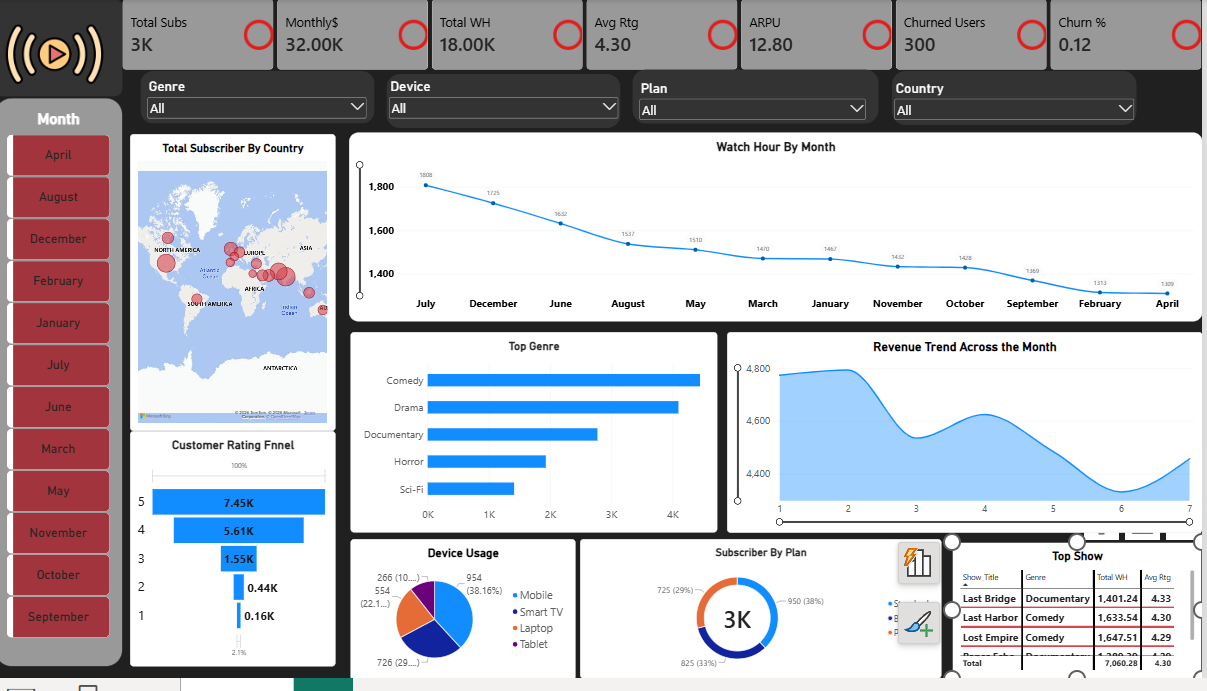

The page's visual inventory and layout, read from the dashboard file:
{"tool":"powerbi","page":{"name":"Page 1","canvas":[2560,1440],"ordinal":0},"visuals":[{"type":"shape","box":[0,0,270.4,206.6],"z":0},{"type":"image","box":[0,0,252.2,233.9],"z":1000},{"type":"shape","box":[0,210,270.4,1205.7],"z":2000},{"type":"cardVisual","fields":{"Data":["OTT_Data.Total Subscribers","OTT_Data.Monthly Revenue","OTT_Data.Total Watch Hours","OTT_Data.Avg Rating","OTT_Data.ARPU","OTT_Data.Churned Users","OTT_Data.Churn %"]},"box":[270.4,0,2290,150],"z":3000},{"type":"shape","box":[308.6,152.7,496.3,111.3],"z":4000},{"type":"shape","box":[830.3,159.1,496.3,114.5],"z":5000},{"type":"shape","box":[1352,149.5,521.7,114.5],"z":6000},{"type":"shape","box":[1902.4,152.7,518.5,114.5],"z":7000},{"type":"map","title":"Total Subscriber By Country","fields":{"Category":["OTT_Data.Country"],"Size":["OTT_Data.Total Subs"]},"box":[286.3,286.3,435.8,629.9],"z":8000},{"type":"slicer","fields":{"Values":["OTT_Data.Genre"]},"box":[318.1,168.6,474,95.4],"z":9000},{"type":"slicer","fields":{"Values":["OTT_Data.Device"]},"box":[830.3,168.6,496.3,95.4],"z":10000},{"type":"slicer","fields":{"Values":["OTT_Data.Plan"]},"box":[1361.6,171.8,489.9,95.4],"z":11000},{"type":"slicer","fields":{"Values":["OTT_Data.Country"]},"box":[1902.4,171.8,518.5,95.4],"z":12000},{"type":"advancedSlicerVisual","fields":{"Values":["OTT_Data.Month"]},"box":[24.3,234.9,218.7,1122],"z":13000},{"type":"funnel","title":"Customer Rating Fnnel","fields":{"Category":["OTT_Data.Rating"],"Y":["CountNonNull(OTT_Data.Record_ID)"]},"box":[286.3,916.2,435.8,499.5],"z":14000},{"type":"donutChart","title":"Subscriber By Plan","fields":{"Category":["OTT_Data.Plan"],"Y":["OTT_Data.Total Subs"]},"box":[1240.7,1145.2,766.7,295.9],"z":15000},{"type":"pieChart","title":"Device Usage","fields":{"Category":["OTT_Data.Device"],"Y":["OTT_Data.Total Subs"]},"box":[753.9,1145.2,477.2,299],"z":16000},{"type":"lineChart","title":"Watch Hour By Month","fields":{"Category":["OTT_Data.Month"],"Y":["OTT_Data.Total WH"]},"box":[749.4,283.5,1810.1,400.8],"z":17000},{"type":"clusteredBarChart","title":"Top Genre","fields":{"Category":["OTT_Data.Genre"],"Y":["OTT_Data.Total WH"]},"box":[753.4,704.8,777.7,425.3],"z":18000},{"type":"tableEx","title":"Top Show","fields":{"Values":["OTT_Data.Show_Title","OTT_Data.Genre","OTT_Data.Total WH","OTT_Data.Avg Rtg"]},"box":[2029.6,1151.6,531.3,289.5],"z":19000},{"type":"areaChart","title":"Revenue Trend Across the Month","fields":{"Category":["OTT_Data.Day_No"],"Y":["OTT_Data.Monthly$"]},"box":[1552.4,706.2,1008.4,426.3],"z":20000}]}

Visuals, with their boxes in screenshot pixels (x1, y1, x2, y2), scaled from the page's 2560x1440 canvas onto the 1207x691 screenshot:
shape: Rect(0, 0, 127, 99)
image: Rect(0, 0, 119, 112)
shape: Rect(0, 101, 127, 679)
cardVisual - OTT_Data.Total Subscribers x OTT_Data.Monthly Revenue: Rect(127, 0, 1206, 72)
shape: Rect(146, 73, 379, 127)
shape: Rect(391, 76, 625, 131)
shape: Rect(637, 72, 883, 127)
shape: Rect(897, 73, 1141, 128)
"Total Subscriber By Country" map: Rect(135, 137, 340, 440)
slicer - OTT_Data.Genre: Rect(150, 81, 373, 127)
slicer - OTT_Data.Device: Rect(391, 81, 625, 127)
slicer - OTT_Data.Plan: Rect(642, 82, 873, 128)
slicer - OTT_Data.Country: Rect(897, 82, 1141, 128)
advancedSlicerVisual - OTT_Data.Month: Rect(11, 113, 115, 651)
"Customer Rating Fnnel" funnel: Rect(135, 440, 340, 679)
"Subscriber By Plan" donutChart: Rect(585, 550, 946, 690)
"Device Usage" pieChart: Rect(355, 550, 580, 690)
"Watch Hour By Month" lineChart: Rect(353, 136, 1206, 328)
"Top Genre" clusteredBarChart: Rect(355, 338, 722, 542)
"Top Show" tableEx: Rect(957, 553, 1206, 690)
"Revenue Trend Across the Month" areaChart: Rect(732, 339, 1206, 543)
